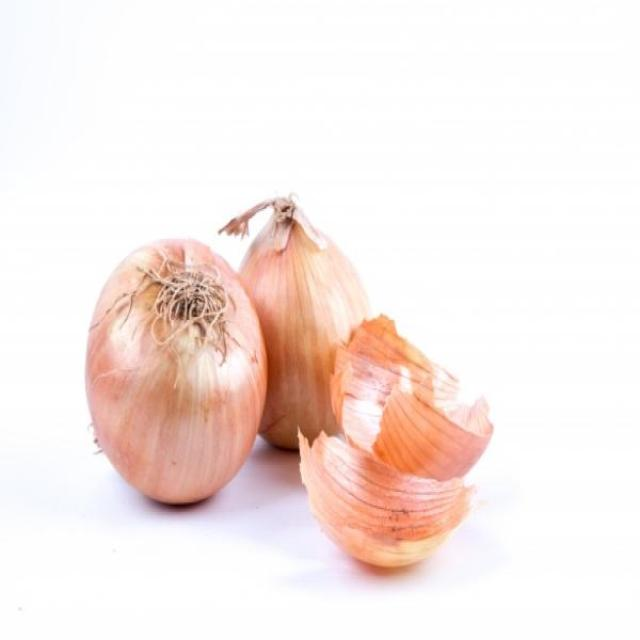Onion: (84, 238, 269, 510), (246, 208, 365, 453)
